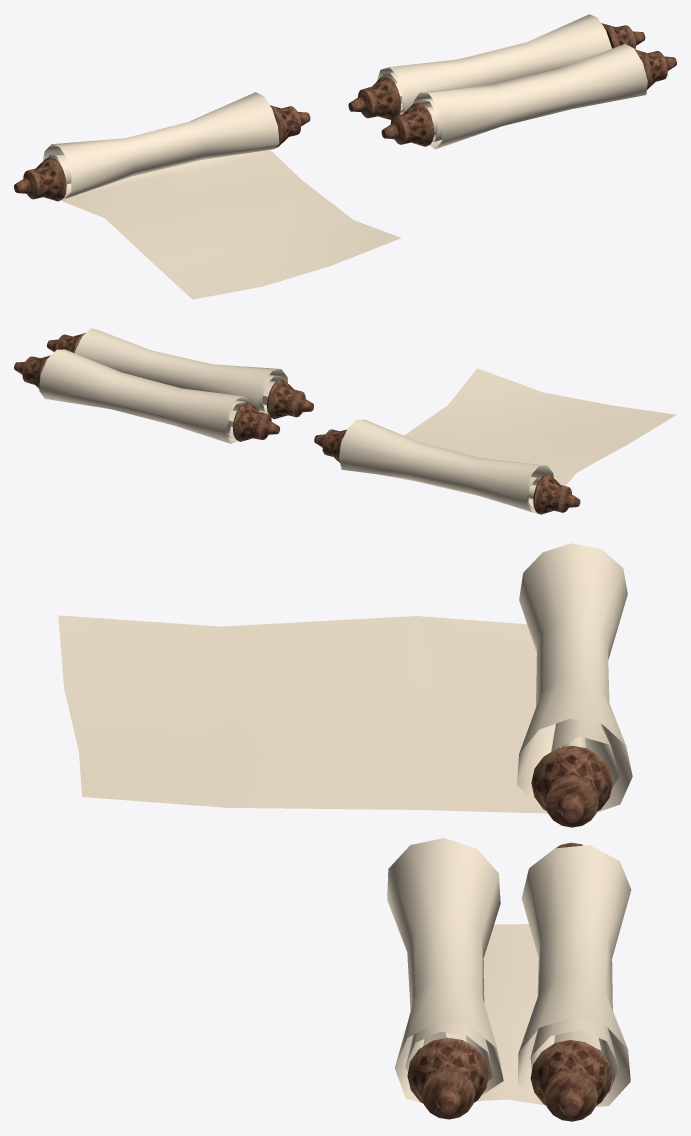
File: scrolls.fbx
3 renders of one model, top to bottom at view 1: azimuth 30°, elevation 25°; view 2: azimuth 150°, elevation 25°; view 3: azimuth 270°, elevation 25°, orthographic. The views are drawn at different scales.
Parts seen in each view (by area): view 1: Plane.008, Plane.029; view 2: Plane.008, Plane.029; view 3: Plane.008, Plane.029.
Boxes of the visible parts, x1=… form: Plane.008: x1=14, y1=92, x2=400, y2=299; Plane.029: x1=348, y1=14, x2=676, y2=149; Plane.008: x1=314, y1=368, x2=676, y2=514; Plane.029: x1=14, y1=328, x2=313, y2=443; Plane.008: x1=58, y1=543, x2=632, y2=827; Plane.029: x1=387, y1=838, x2=631, y2=1121.
Size of the model in its own units: 0.9886 by 0.4364 by 0.0807.
2 materials, 1 textured.
